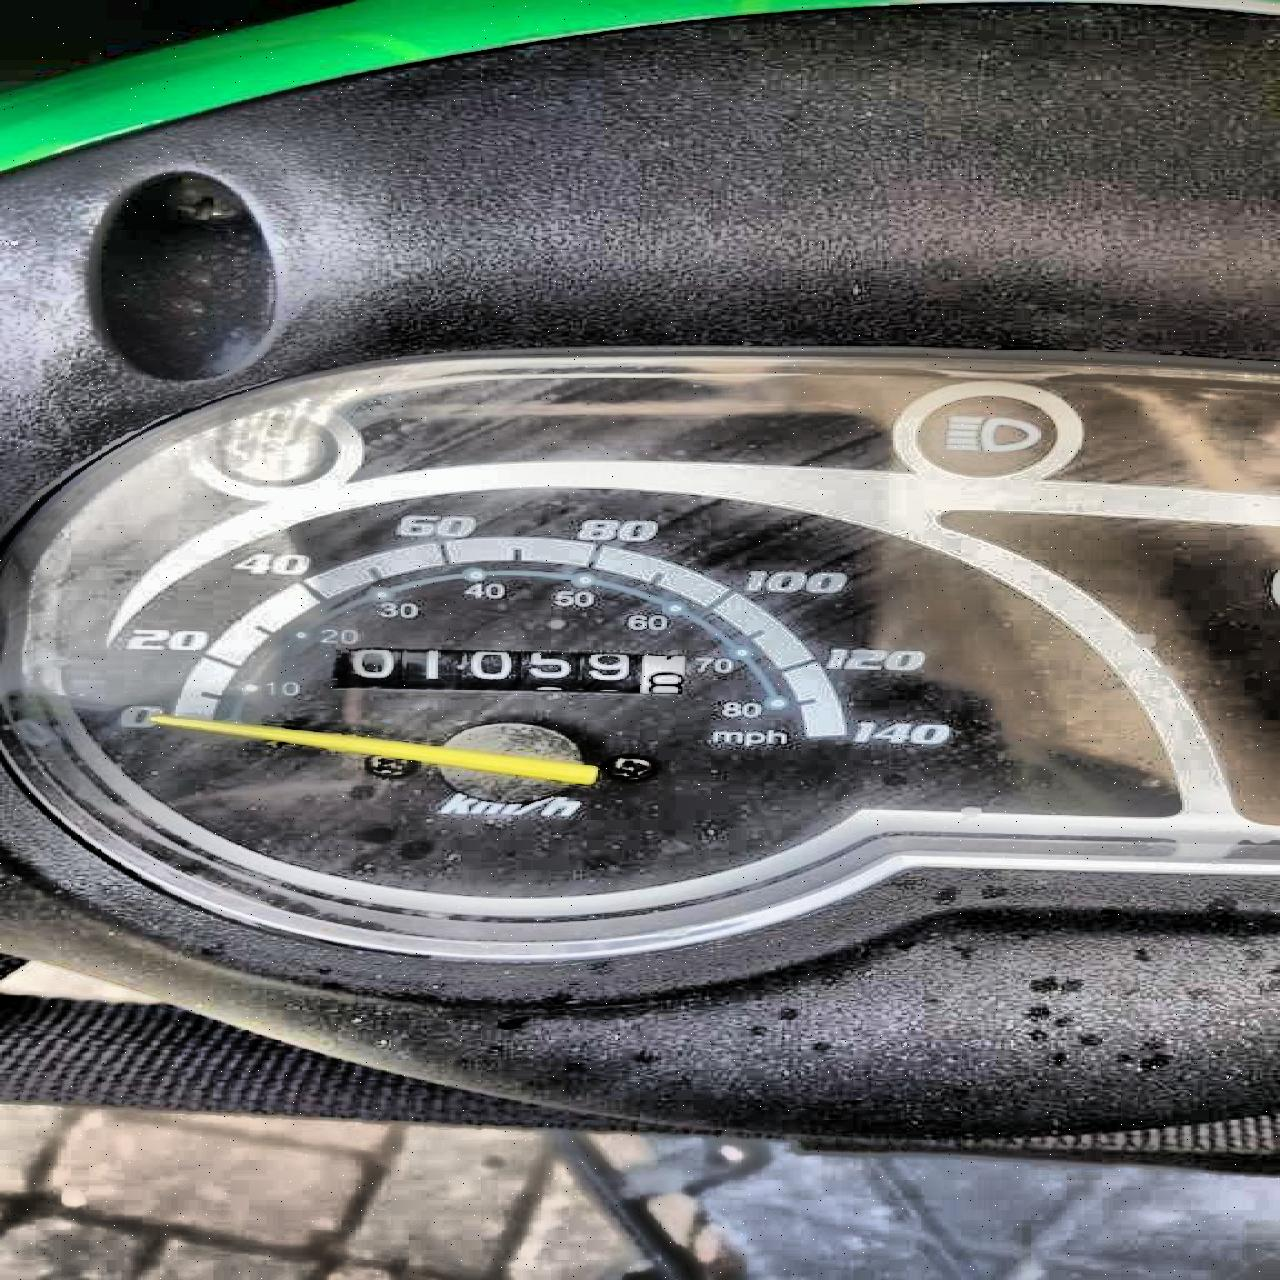0: (464, 649, 513, 680), (349, 647, 395, 678)
1: (417, 647, 444, 681)
5: (524, 651, 573, 679)
8: (640, 668, 687, 694)
9: (583, 651, 628, 681)
odometer: (325, 642, 692, 699)
